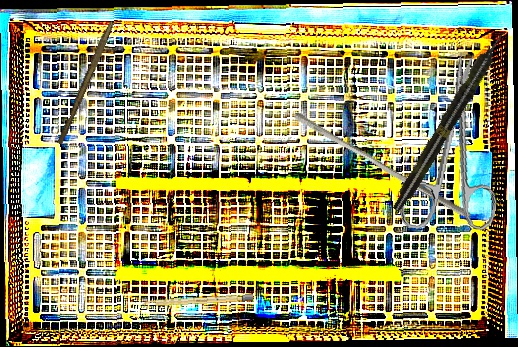Handpiece: (388, 26, 512, 215)
Iris Scissors: (398, 46, 517, 240)
Pusher: (290, 111, 476, 220)
Scalpel Handle: (56, 19, 115, 146), (141, 294, 254, 307)
